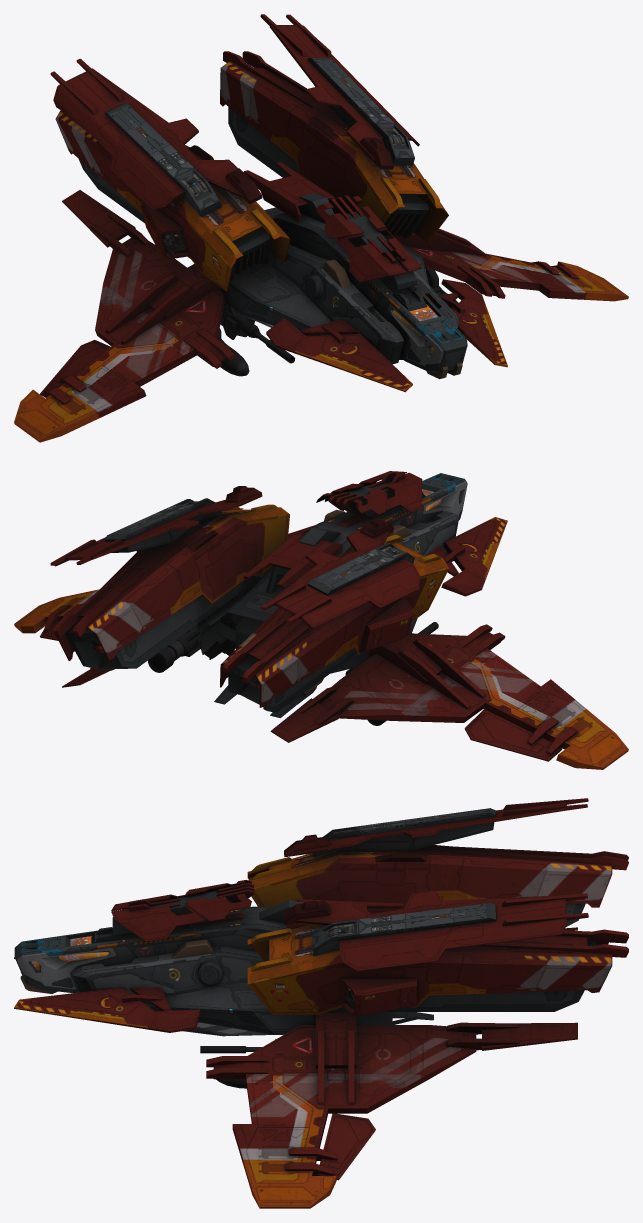
Rendered from RX4_green.FBX.
The picture shows the model from 3 angles, top to bottom: view 1: azimuth 30°, elevation 25°; view 2: azimuth 150°, elevation 25°; view 3: azimuth 270°, elevation 25°; orthographic projection.
Visible parts, largest first — view 1: SF_Bomber-RX4, RX4_MachineGun_X002; view 2: SF_Bomber-RX4, RX4_Missil-GBU001, RX4_MachineGun_X1; view 3: SF_Bomber-RX4.
Boxes of the visible parts, x1,y1,x2,y2 form: SF_Bomber-RX4: (14,14,628,442); RX4_MachineGun_X002: (220,302,295,363); SF_Bomber-RX4: (14,471,628,769); RX4_Missil-GBU001: (148,627,201,672); RX4_MachineGun_X1: (200,637,235,659); SF_Bomber-RX4: (14,798,628,1208).
Bounding box in the file's own units: 222 × 200 × 77.47.
2 materials, 2 textured.
